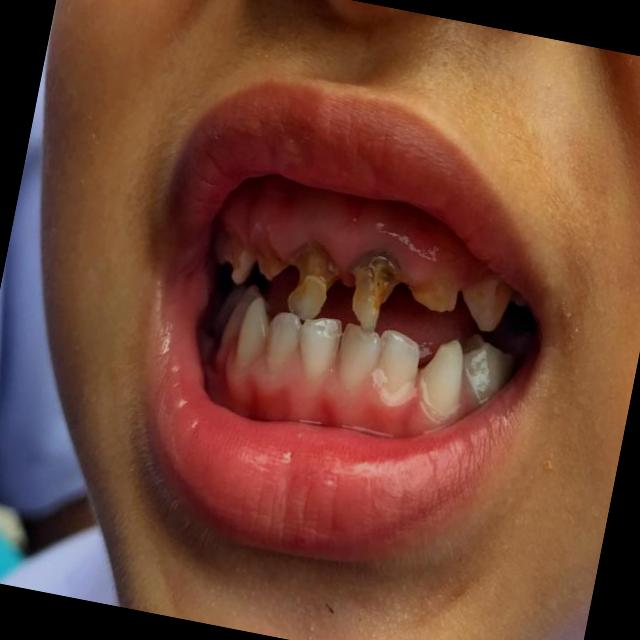caries: (282, 240, 346, 324), (344, 249, 406, 334), (218, 235, 258, 292), (251, 235, 292, 284)
